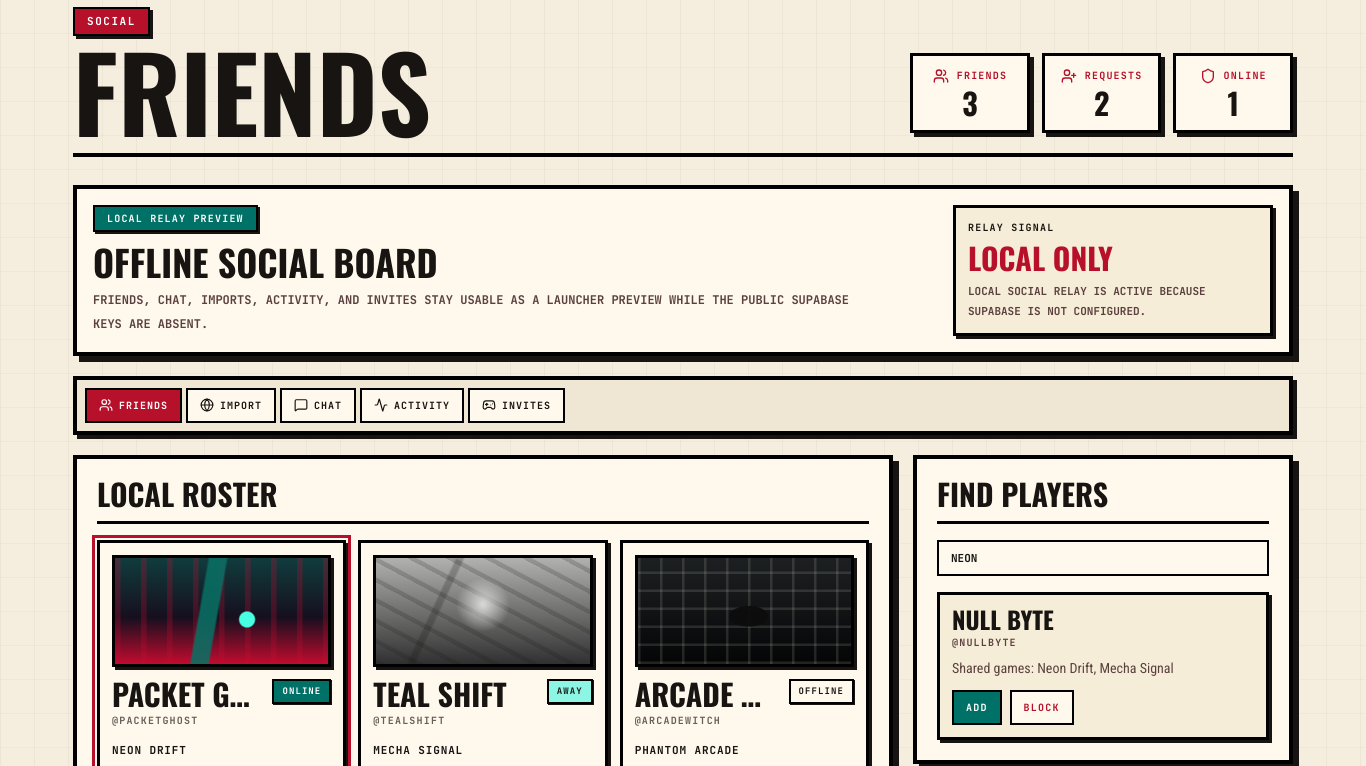
FriendsPage › updates local block state instead of only staging a message
Step 1. Click the button "Block" → (1042,708), box [1010,690,1074,725]
(page scrolled)
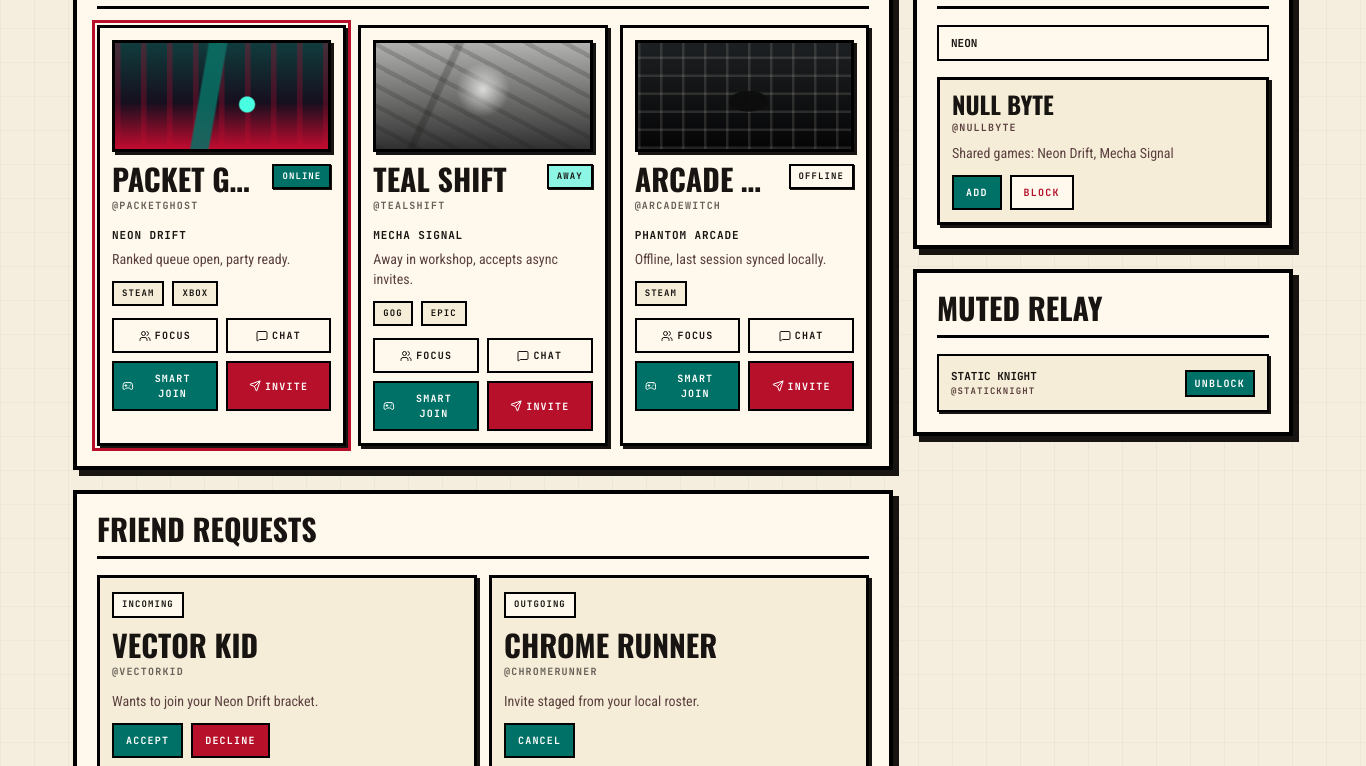
Step 2. Click the button "Unblock" → (1220,383), box [1185,370,1255,397]
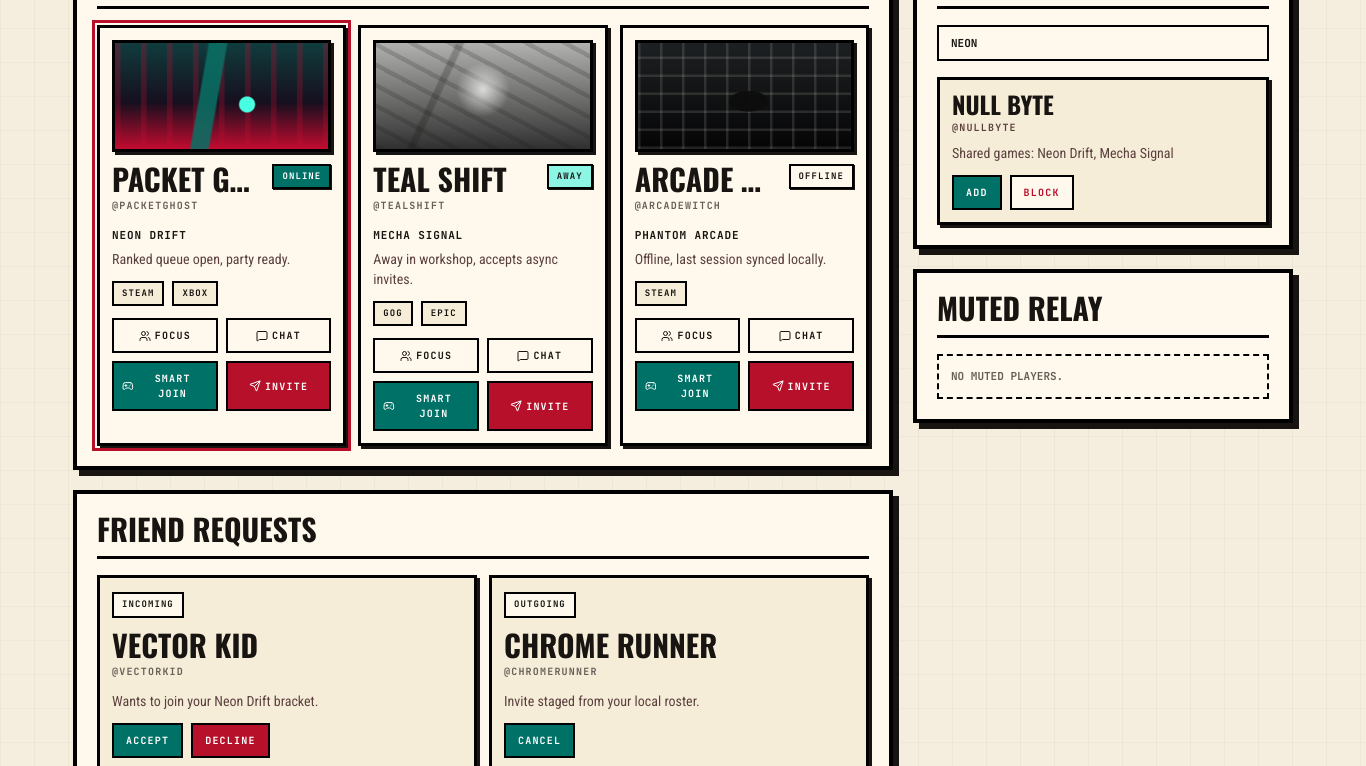
Now the text "No muted players." is shown, box [937,354,1269,399]
